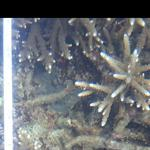dead: (12, 21, 147, 147)
